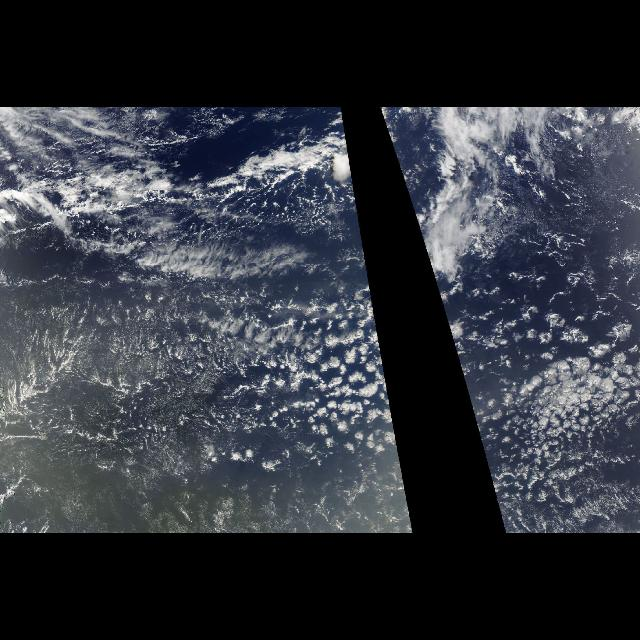Fish: (97, 212, 359, 274)
Flower: (248, 281, 402, 491), (434, 281, 572, 473)
Gravel: (1, 319, 258, 483)
Sugar: (4, 290, 294, 532)
